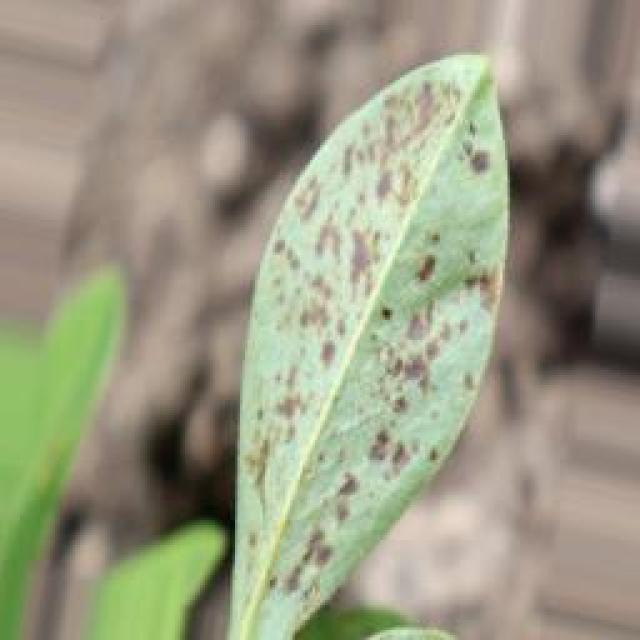Whitefly: (174, 58, 511, 630)
